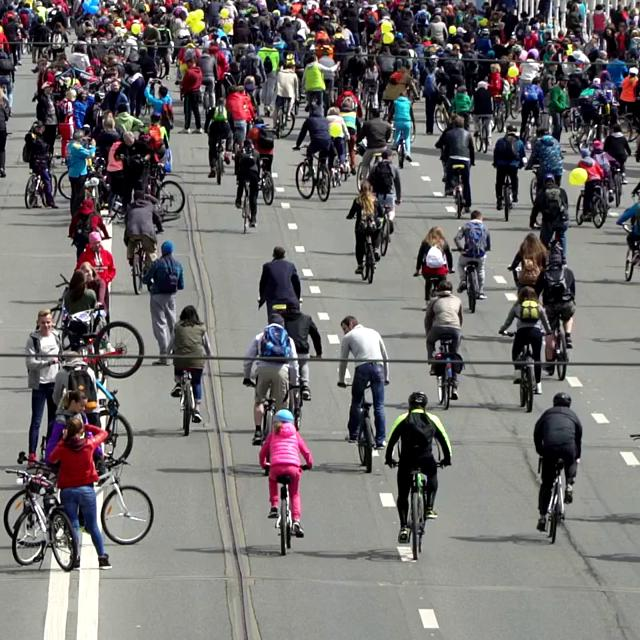bicycle: (3, 452, 153, 548), (5, 465, 78, 572), (386, 459, 447, 561), (337, 379, 389, 473), (263, 463, 311, 555), (498, 329, 545, 413), (536, 455, 573, 544), (451, 247, 489, 313), (429, 337, 463, 409), (291, 143, 330, 201), (542, 310, 571, 380), (146, 162, 185, 214), (24, 155, 59, 208), (129, 233, 157, 295), (177, 369, 202, 436), (575, 179, 609, 228), (494, 163, 522, 221), (443, 161, 471, 219), (617, 222, 639, 281), (389, 120, 415, 168), (239, 179, 258, 234), (432, 85, 454, 132), (471, 114, 493, 153), (214, 140, 226, 185)
